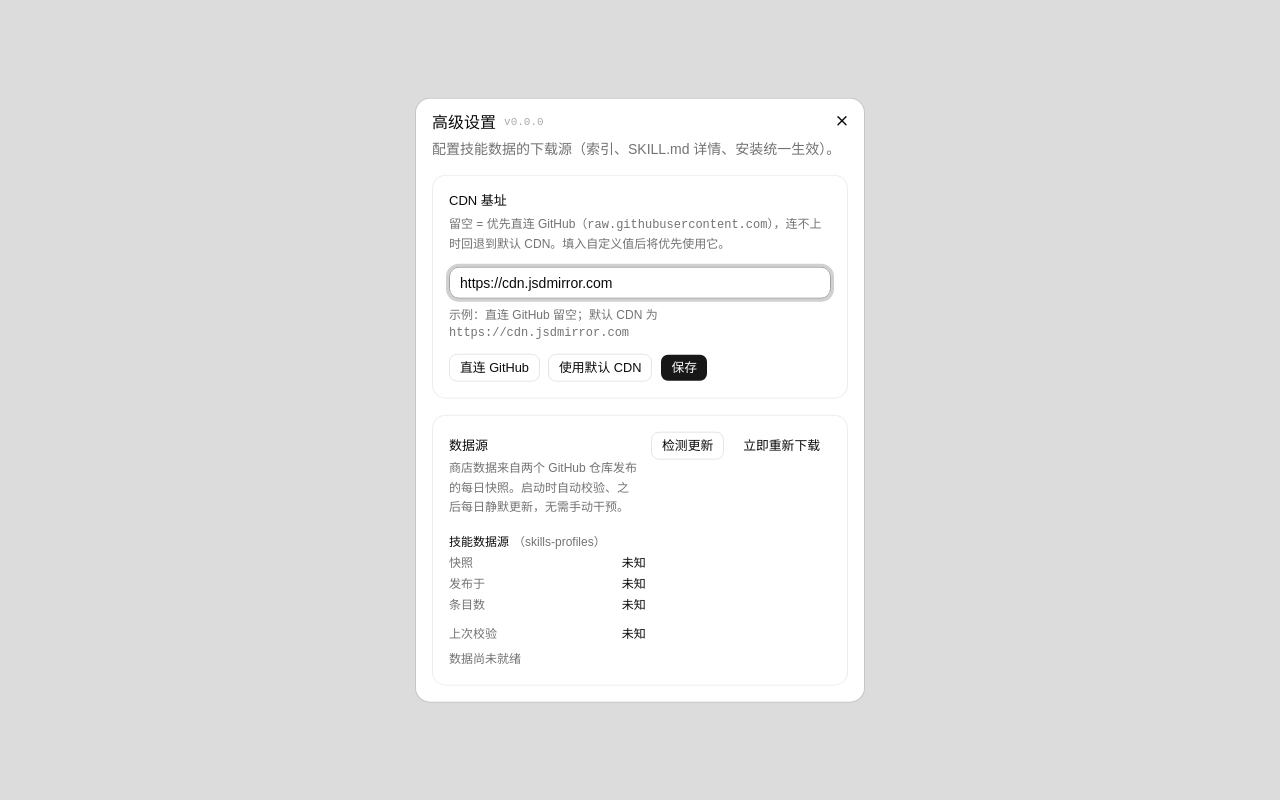
AdvancedSettingsDialog › reports a unknown manual check
Click the button "检测更新": [688, 446] box [651,432,724,460]
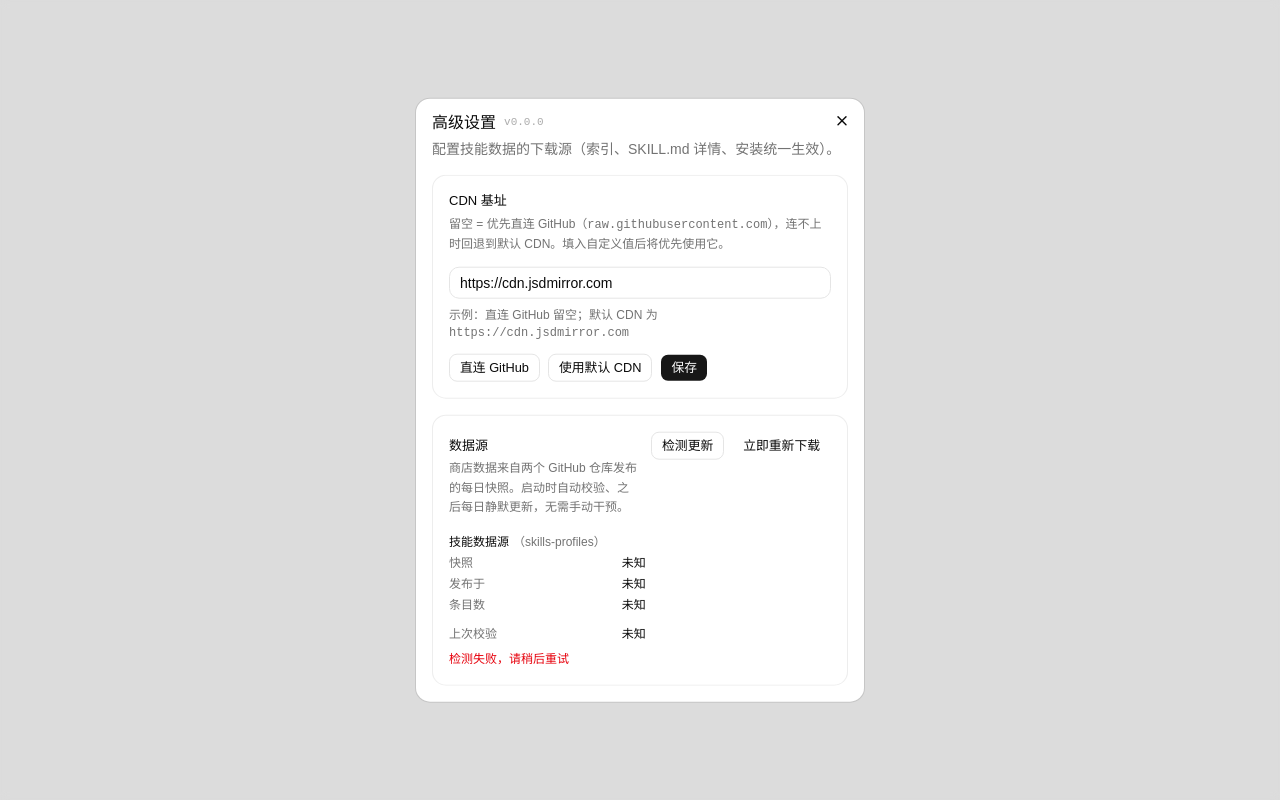
expect the text "检测失败，请稍后重试" is shown: met, box [449,652,569,666]
